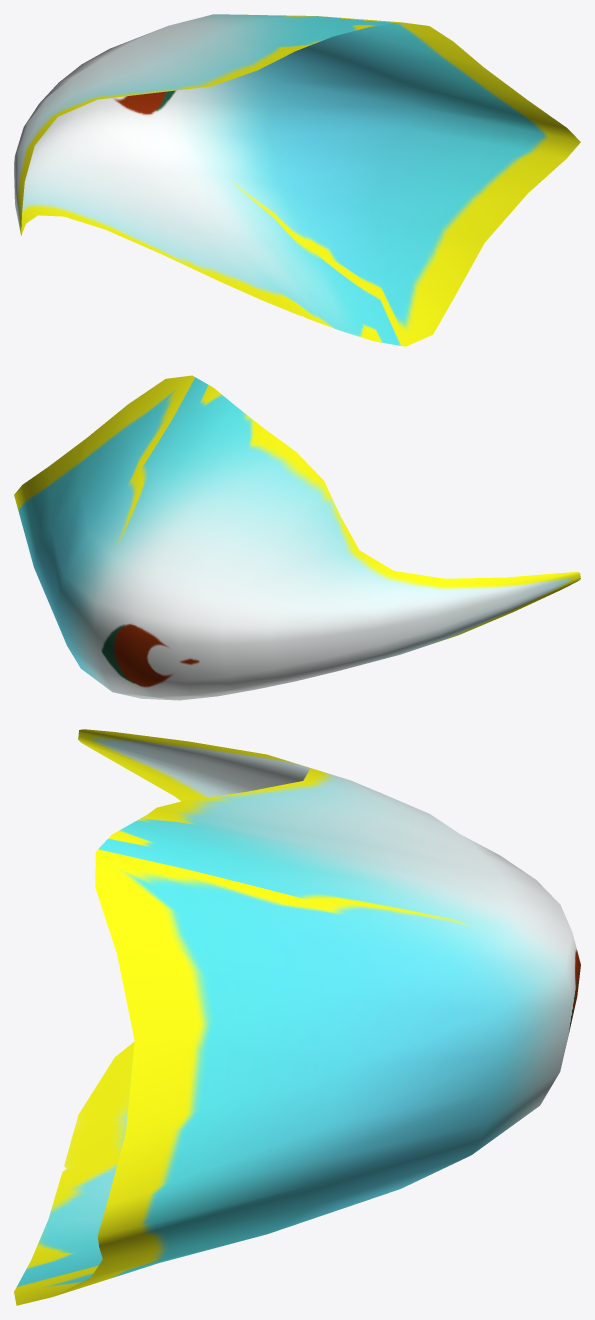
3 renders of one model, top to bottom at view 1: azimuth 30°, elevation 25°; view 2: azimuth 150°, elevation 25°; view 3: azimuth 270°, elevation 25°, orthographic. The views are drawn at different scales.
Parts seen in each view (by area): view 1: 平面; view 2: 平面; view 3: 平面.
Boxes of the visible parts, box(x1,y1,x2,y2) form: 平面: box(14, 14, 580, 346); 平面: box(14, 375, 580, 700); 平面: box(14, 729, 580, 1305).
Bounding box in the file's own units: 427 × 215 × 242.
1 material, 1 textured.
